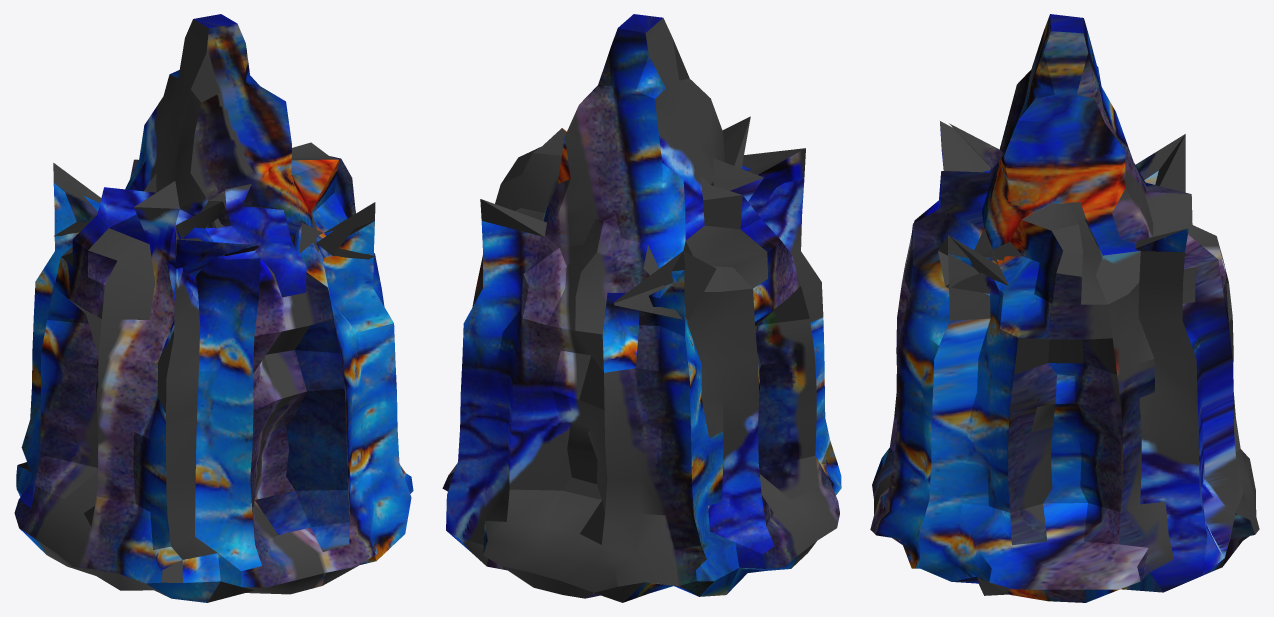
The model's file is religion1.fbx.
3 views of the same model, side by side, from view 1: azimuth 30°, elevation 25°; view 2: azimuth 150°, elevation 25°; view 3: azimuth 270°, elevation 25° (orthographic).
Parts seen in each view (by area): view 1: lp; view 2: lp; view 3: lp.
Boxes of the visible parts, x1,y1,x2,y2 form: lp: (14,14,413,602); lp: (442,14,841,602); lp: (870,14,1259,602).
Size of the model in its own units: 102 by 148 by 102.
